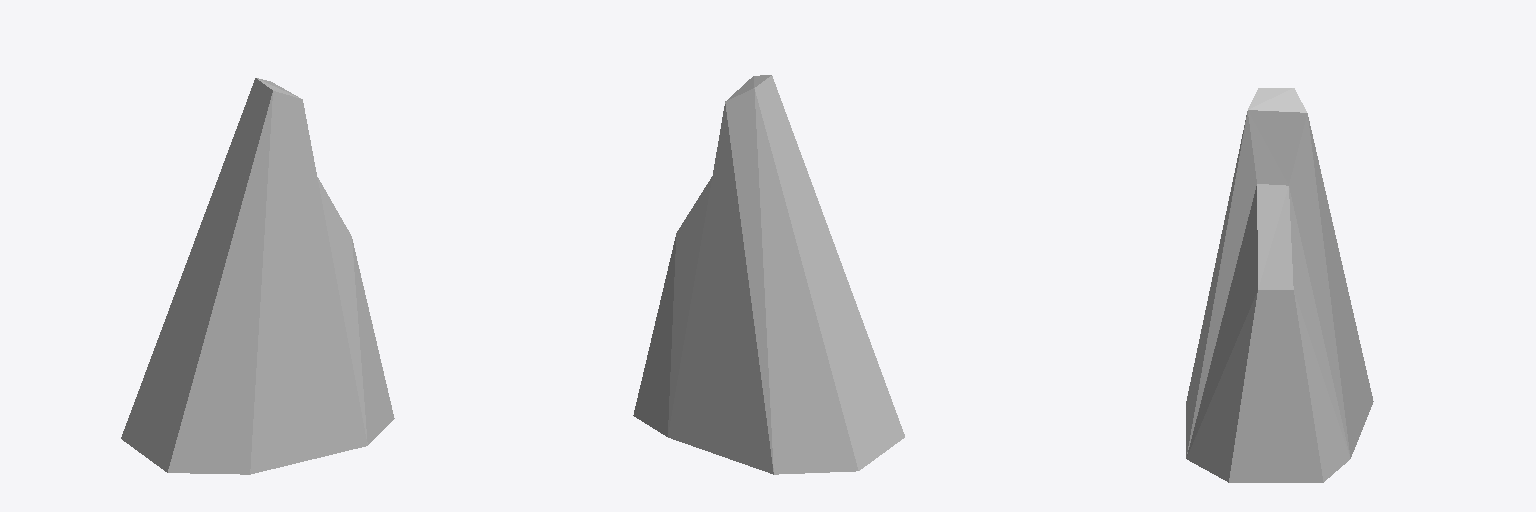
The model's file is skala_002.obj.
3 renders of one model, left to right at view 1: azimuth 30°, elevation 25°; view 2: azimuth 150°, elevation 25°; view 3: azimuth 270°, elevation 25°, orthographic.
Parts seen in each view (by area): view 1: Скала.002; view 2: Скала.002; view 3: Скала.002.
Boxes of the visible parts, box(x1,y1,x2,y2) form: Скала.002: box(121, 78, 394, 474); Скала.002: box(633, 75, 904, 474); Скала.002: box(1186, 88, 1373, 482).
Size of the model in its own units: 1.92 by 2.79 by 1.38.